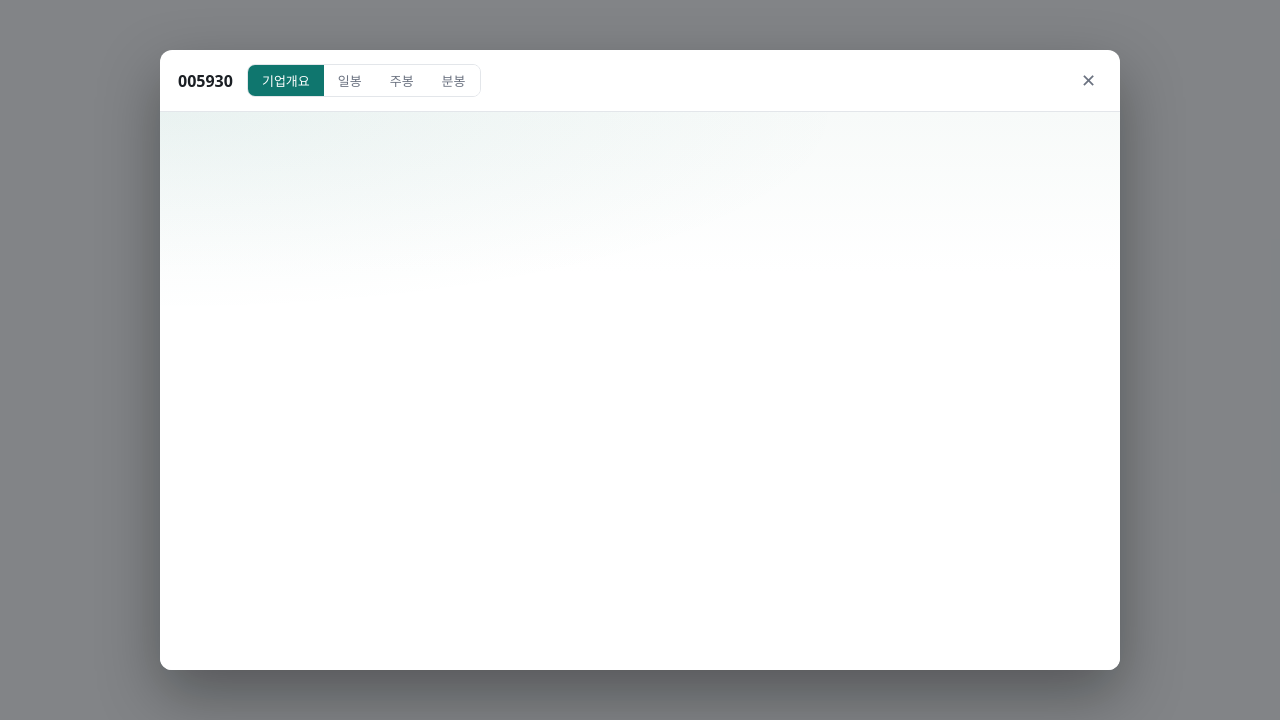
Scenario: ChartModal › 빈 캔들이면 데이터 없음 안내를 보여준다
Click the tab "일봉".
click(350, 80)  # box [324,65,376,96]
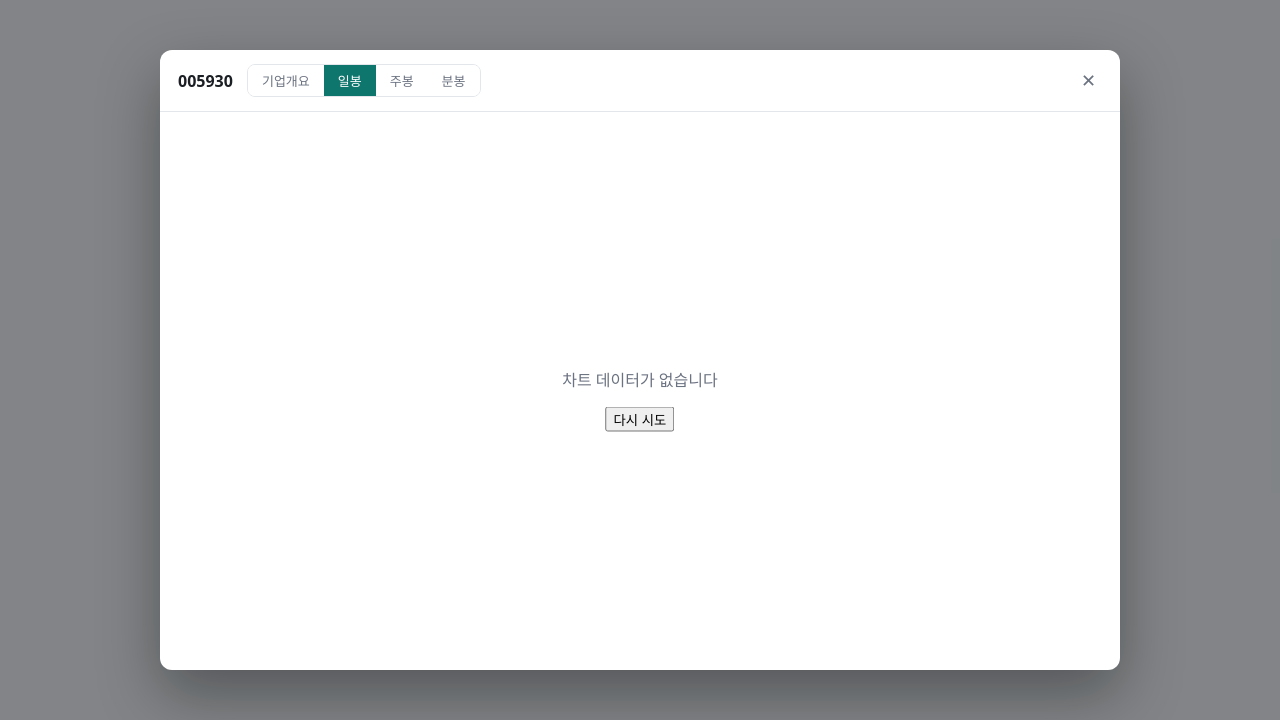
Expected: the text "차트 데이터가 없습니다" is shown, [562,366,718,390]
